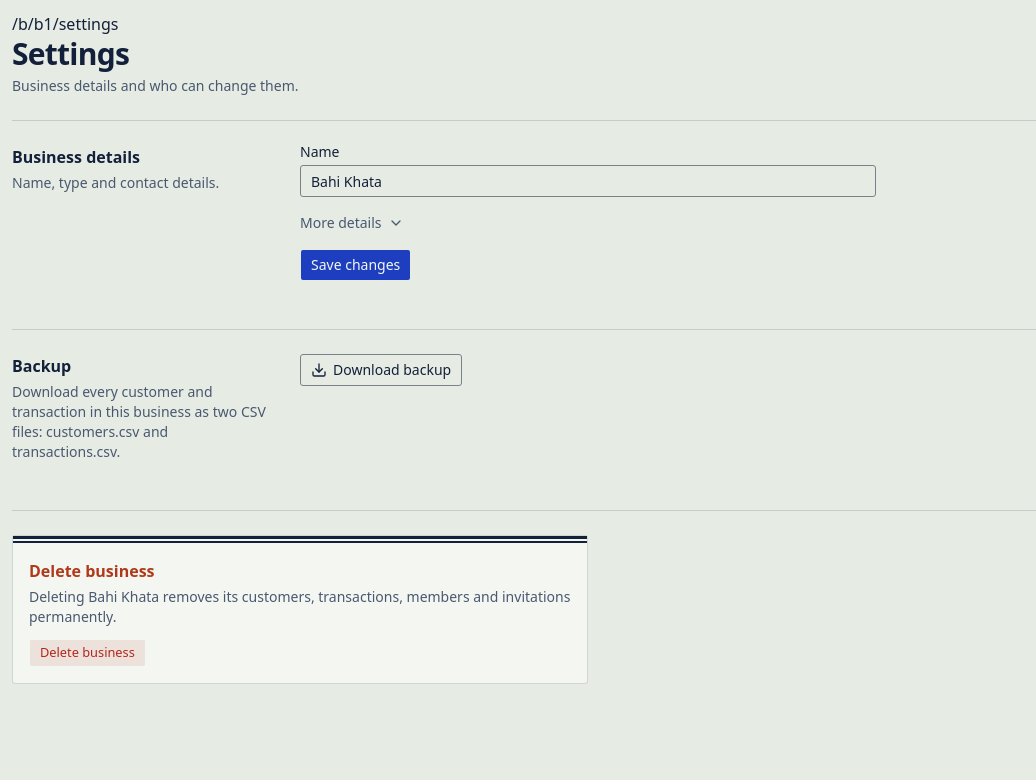
Test: S-27 lost access › fails a downgraded role's save with a forbidden toast and turns the UI read-only
This screenshot has width=1036, height=780.
Click the button "Save changes": (356, 265) 300,249 -> 411,281
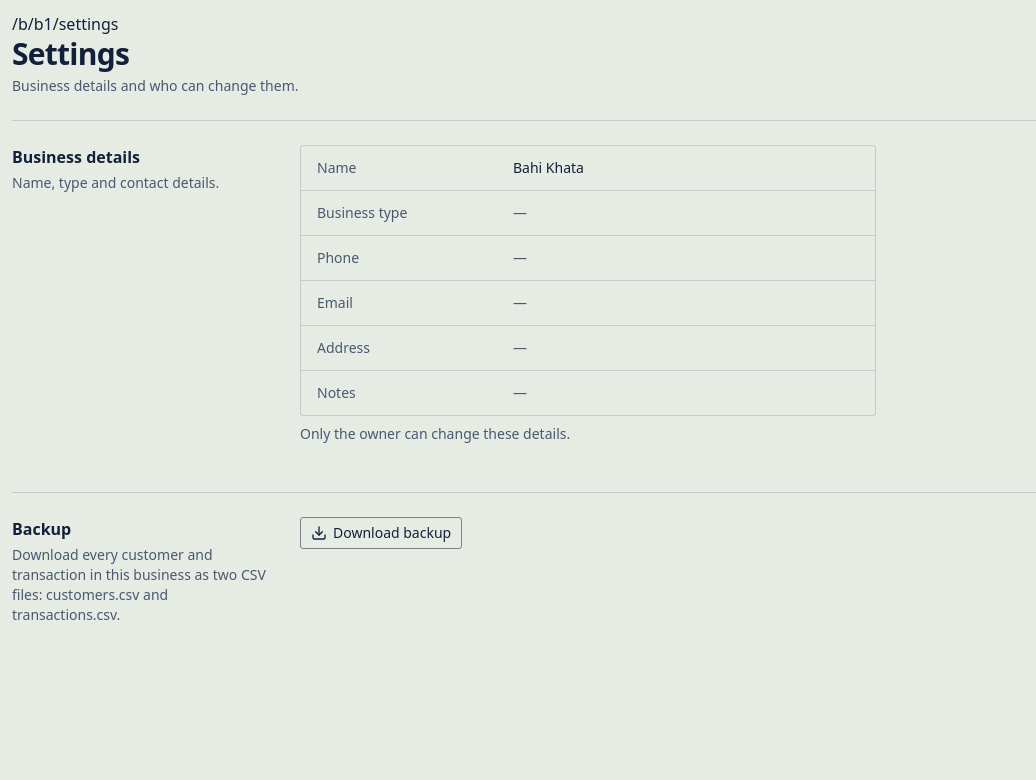
Expected: the text "Only the owner can change these details." is shown, 300,424 -> 570,443
Expected: the button "Save changes" is gone
